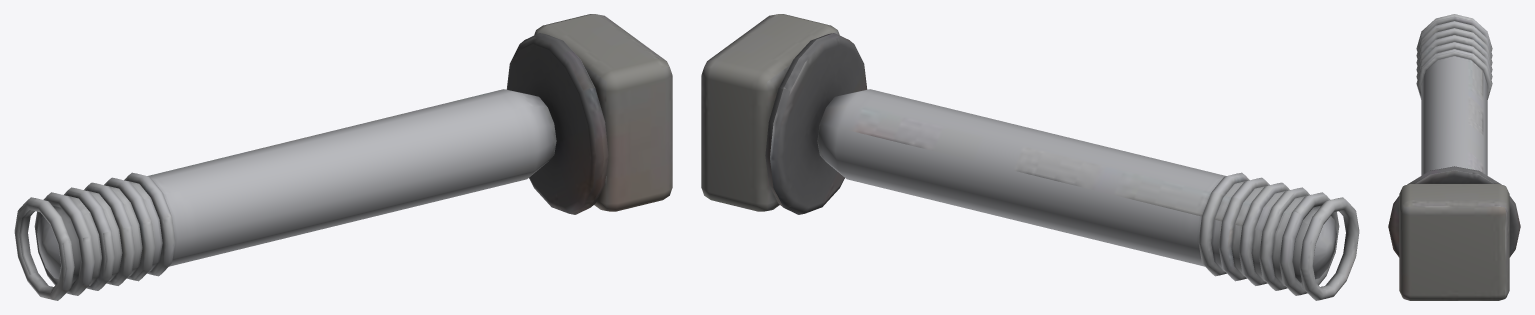
Rendered from track_bolt.glb.
3 views of the same model, side by side, from view 1: azimuth 30°, elevation 25°; view 2: azimuth 150°, elevation 25°; view 3: azimuth 270°, elevation 25° (orthographic). The views are drawn at different scales.
Visible parts, largest first — view 1: TrackBolt; view 2: TrackBolt; view 3: TrackBolt.
Part boxes in pixels (x1,y1,x2,y2): TrackBolt: (14,14,672,300); TrackBolt: (701,14,1359,300); TrackBolt: (1388,14,1520,300).
Size of the model in its own units: 0.1788 by 0.048 by 0.048.
3 materials, 3 textured.
